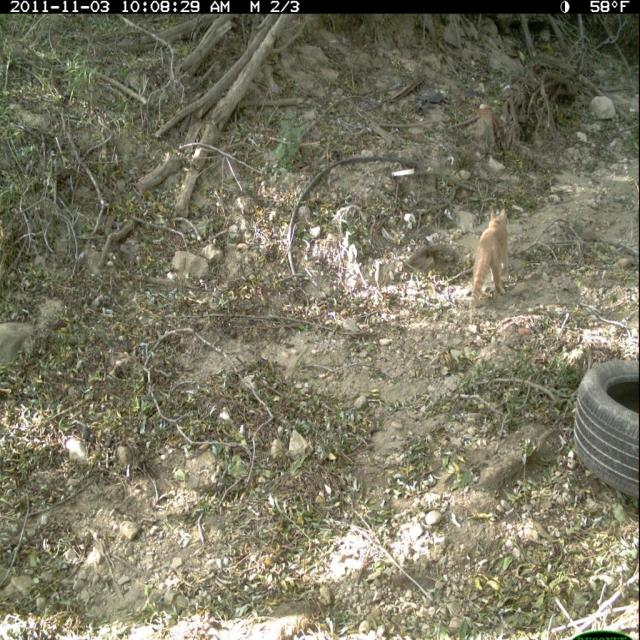cat: (466, 204, 512, 315)
